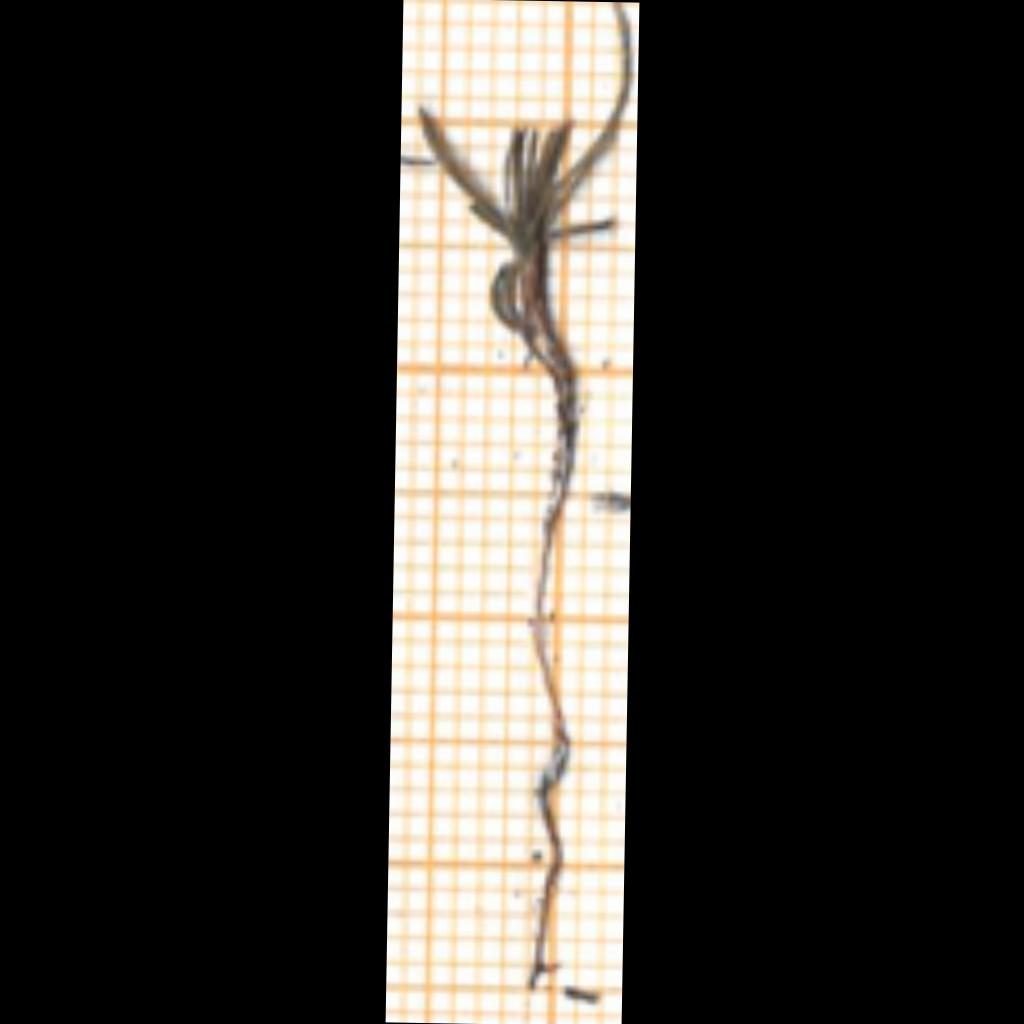flowerPinus: (419, 2, 630, 413)
rootPinus: (531, 478, 570, 985)
stemPinus: (553, 378, 576, 495)
